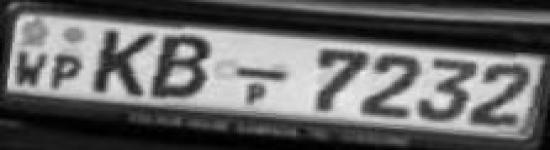-: (230, 62, 295, 85)
2: (344, 44, 432, 126), (456, 56, 540, 136)
3: (410, 51, 487, 129)
7: (293, 42, 382, 117)
B: (141, 29, 221, 104)
K: (80, 23, 163, 103)
W: (38, 49, 88, 97), (9, 46, 54, 93)
